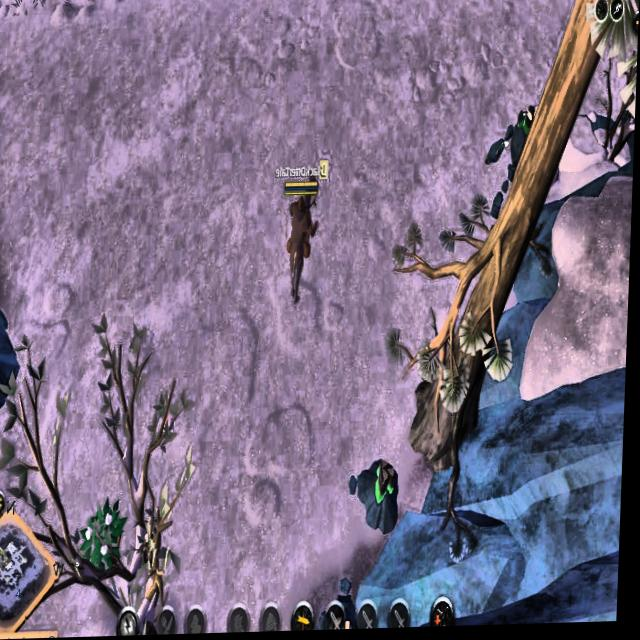tinore: (362, 457, 405, 535), (508, 98, 541, 155)
